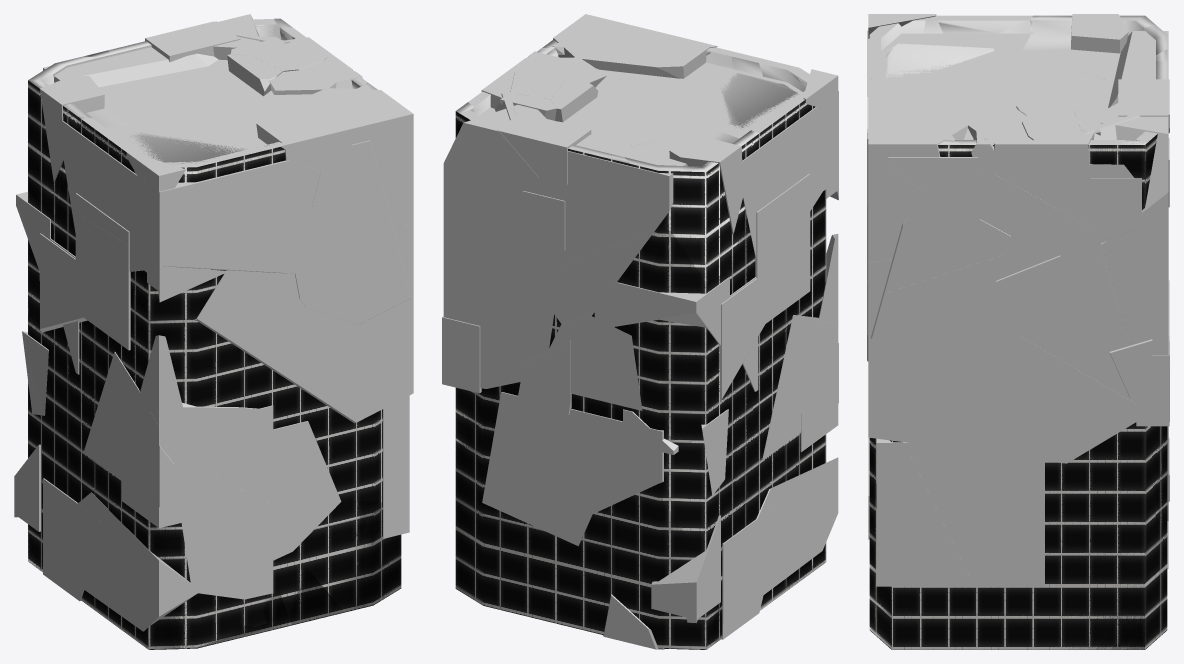
3 views of the same model, side by side, from view 1: azimuth 30°, elevation 25°; view 2: azimuth 150°, elevation 25°; view 3: azimuth 270°, elevation 25° (orthographic). The views are drawn at different scales.
Parts seen in each view (by area): view 1: pCube1, pCube1_cell.006_cell.025_cell.001, pCube1_cell.014, pCube1_cell.011_cell.004_cell, pCube1_cell.007_cell.003, pCube1_cell.011_cell.006, pCube1_cell.006_cell.017_cell.001, pCube1_cell.007_cell.002, pCube1_cell.015_cell_cell, pCube1_cell.019_cell.012_cell.001, pCube1_cell.006_cell.022, pCube1_cell.006_cell.017_cell (+46 smaller); view 2: pCube1, pCube1_cell.010_cell.006_cell.001, pCube1_cell.016_cell.009, pCube1_cell.004, pCube1_cell.011_cell.006, pCube1_cell.010_cell.003, pCube1_cell.016_cell.011_cell, pCube1_cell.019_cell.012_cell.001, pCube1_cell.006_cell.025_cell.001, pCube1_cell.014, pCube1_cell.008_cell.004_cell, pCube1_cell.004_cell.016_cell (+47 smaller); view 3: pCube1, pCube1_cell.007_cell.005_cell.001, pCube1_cell.006_cell.017_cell.001, pCube1_cell.007_cell.005_cell, pCube1_cell.014, pCube1_cell.006, pCube1_cell.006_cell, pCube1_cell.006_cell.015, pCube1_cell.020, pCube1_cell.009_cell.003_cell.001, pCube1_cell.017, pCube1_cell.006_cell.017_cell (+43 smaller).
Boxes of the visible parts, x1=… form: pCube1: x1=28, y1=19, x2=366, y2=649; pCube1_cell.006_cell.025_cell.001: x1=59, y1=120, x2=320, y2=273; pCube1_cell.014: x1=256, y1=88, x2=413, y2=227; pCube1_cell.011_cell.004_cell: x1=174, y1=457, x2=273, y2=599; pCube1_cell.007_cell.003: x1=293, y1=499, x2=401, y2=612; pCube1_cell.011_cell.006: x1=78, y1=492, x2=197, y2=631; pCube1_cell.006_cell.017_cell.001: x1=295, y1=234, x2=411, y2=325; pCube1_cell.007_cell.002: x1=270, y1=421, x2=341, y2=560; pCube1_cell.015_cell_cell: x1=122, y1=430, x2=222, y2=528; pCube1_cell.019_cell.012_cell.001: x1=75, y1=213, x2=130, y2=350; pCube1_cell.006_cell.022: x1=285, y1=307, x2=368, y2=411; pCube1_cell.006_cell.017_cell: x1=312, y1=140, x2=399, y2=253; pCube1: x1=455, y1=47, x2=826, y2=649; pCube1_cell.010_cell.006_cell.001: x1=481, y1=134, x2=687, y2=279; pCube1_cell.016_cell.009: x1=482, y1=392, x2=592, y2=546; pCube1_cell.004: x1=568, y1=130, x2=758, y2=419; pCube1_cell.011_cell.006: x1=756, y1=457, x2=838, y2=594; pCube1_cell.010_cell.003: x1=549, y1=316, x2=642, y2=410; pCube1_cell.016_cell.011_cell: x1=588, y1=413, x2=663, y2=513; pCube1_cell.019_cell.012_cell.001: x1=755, y1=187, x2=810, y2=329; pCube1_cell.006_cell.025_cell.001: x1=739, y1=91, x2=838, y2=258; pCube1_cell.014: x1=553, y1=14, x2=709, y2=78; pCube1_cell.008_cell.004_cell: x1=721, y1=498, x2=786, y2=639; pCube1_cell.004_cell.016_cell: x1=594, y1=277, x2=729, y2=345; pCube1: x1=869, y1=15, x2=1167, y2=649; pCube1_cell.007_cell.005_cell.001: x1=904, y1=442, x2=1044, y2=586; pCube1_cell.006_cell.017_cell.001: x1=867, y1=255, x2=1004, y2=368; pCube1_cell.007_cell.005_cell: x1=876, y1=438, x2=974, y2=586; pCube1_cell.014: x1=868, y1=78, x2=967, y2=263; pCube1_cell.006: x1=868, y1=261, x2=1136, y2=442; pCube1_cell.006_cell: x1=868, y1=367, x2=967, y2=442; pCube1_cell.006_cell.015: x1=964, y1=366, x2=1061, y2=442; pCube1_cell.020: x1=1100, y1=103, x2=1168, y2=354; pCube1_cell.009_cell.003_cell.001: x1=977, y1=255, x2=1060, y2=336; pCube1_cell.017: x1=968, y1=103, x2=1094, y2=227; pCube1_cell.006_cell.017_cell: x1=867, y1=129, x2=1010, y2=293.
Size of the model in its own units: 1305 by 2355 by 1271.
